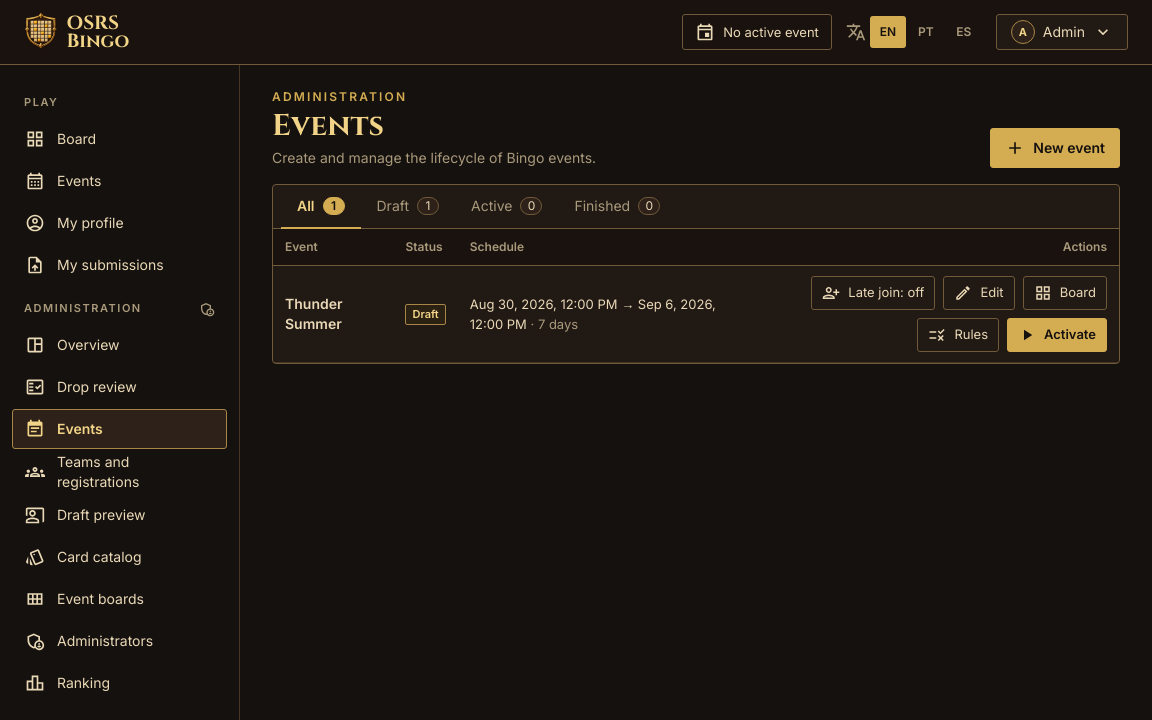
Test: Events feature › keeps the activation dialog open and shows the error inside it
The image size is (1152, 720).
Click the button with aria-label "Activate event · Thunder Summer". click: {"x": 1057, "y": 335}
box: [1007,318,1107,352]
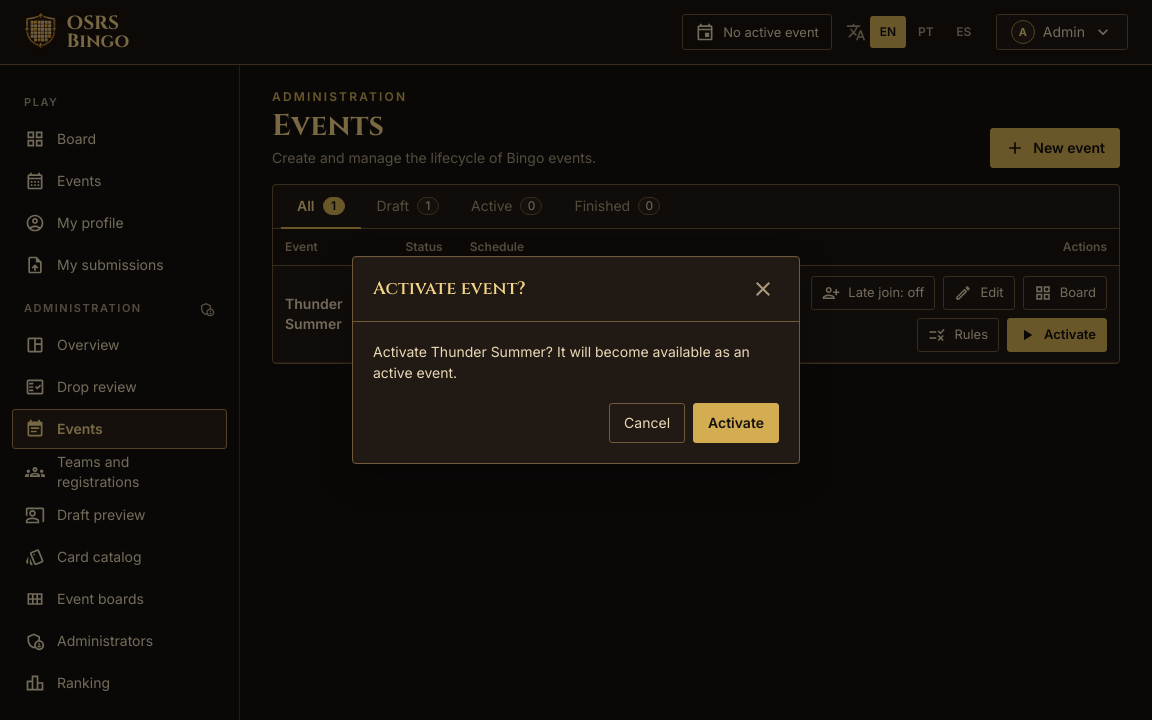
Click the button "Activate". click: {"x": 736, "y": 423}
box: [693,403,779,443]
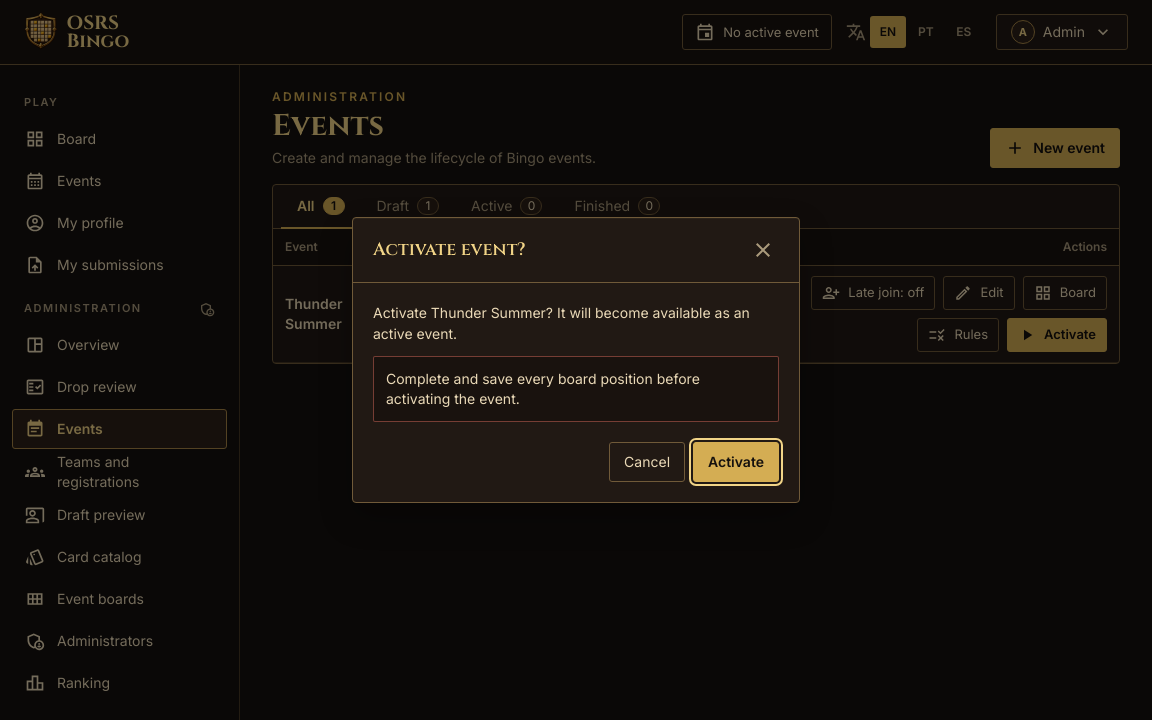
Expected: the text "Complete and save every board position before activating the event." is shown once, [373,356,779,422]
Click the button "Cancel". click: {"x": 647, "y": 462}
box: [609,442,685,482]
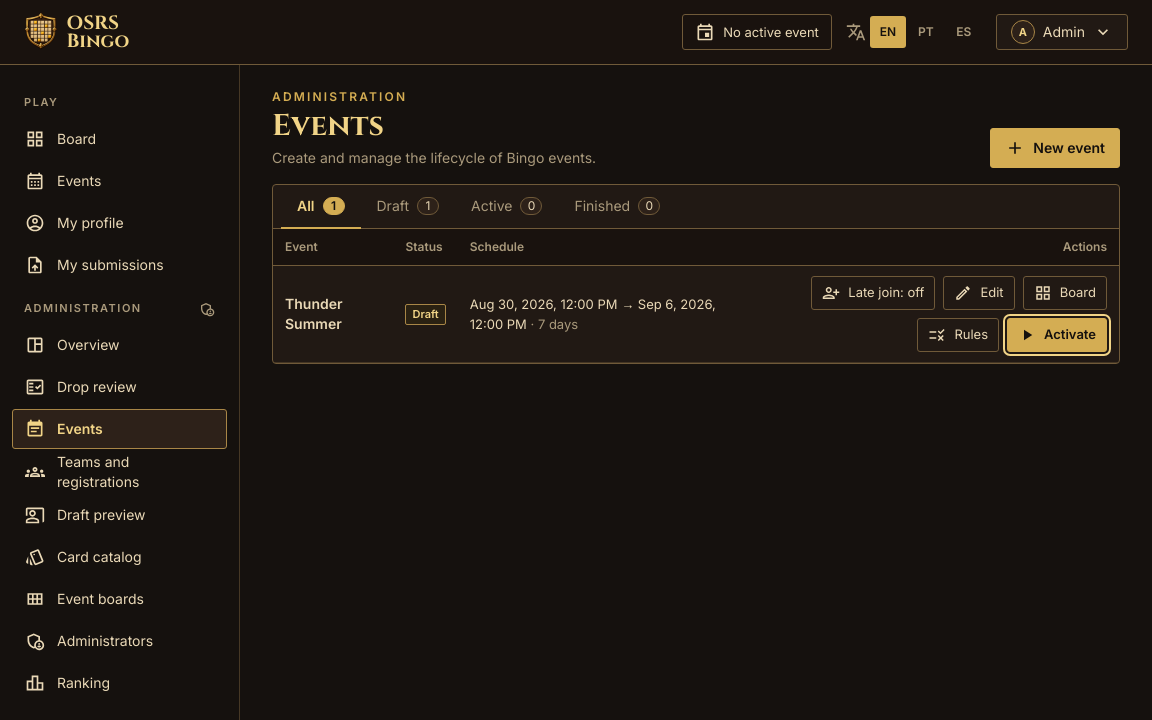
Expected: the dialog is gone
Expected: the text "Complete and save every board position" is gone
